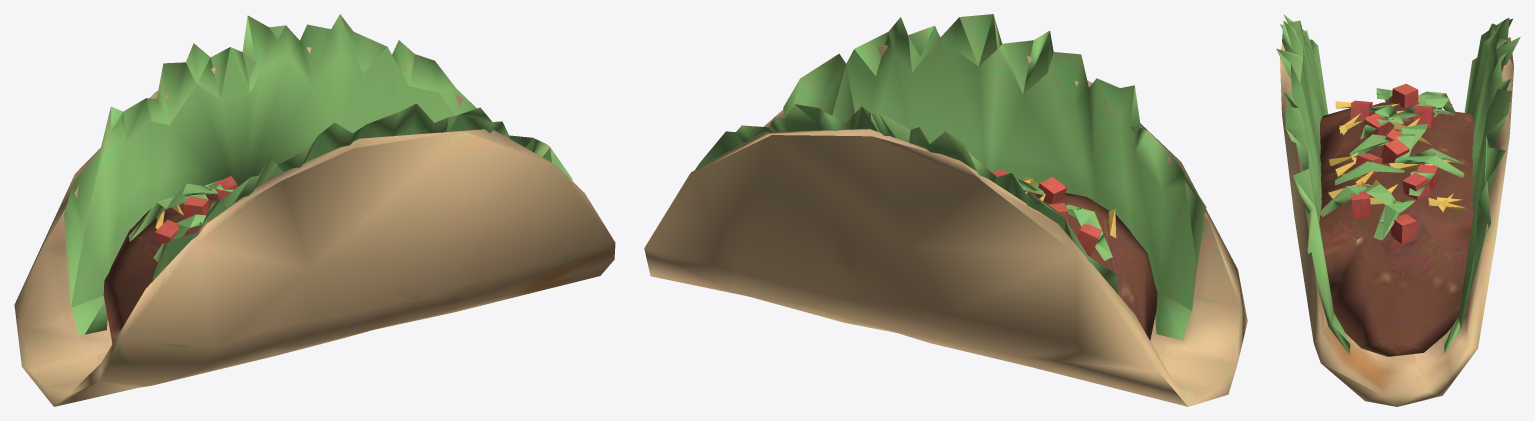
File: food-taco.glb
3 renders of one model, left to right at view 1: azimuth 30°, elevation 25°; view 2: azimuth 150°, elevation 25°; view 3: azimuth 270°, elevation 25°, orthographic. The views are drawn at different scales.
Parts seen in each view (by area): view 1: taco_body; view 2: taco_body; view 3: taco_body.
Boxes of the visible parts, <box> form: taco_body: <box>14,14,615,406</box>; taco_body: <box>644,14,1247,406</box>; taco_body: <box>1276,14,1520,406</box>.
Size of the model in its own units: 4 by 1.91 by 1.7.
Materials: 1 (1 with a texture image).
